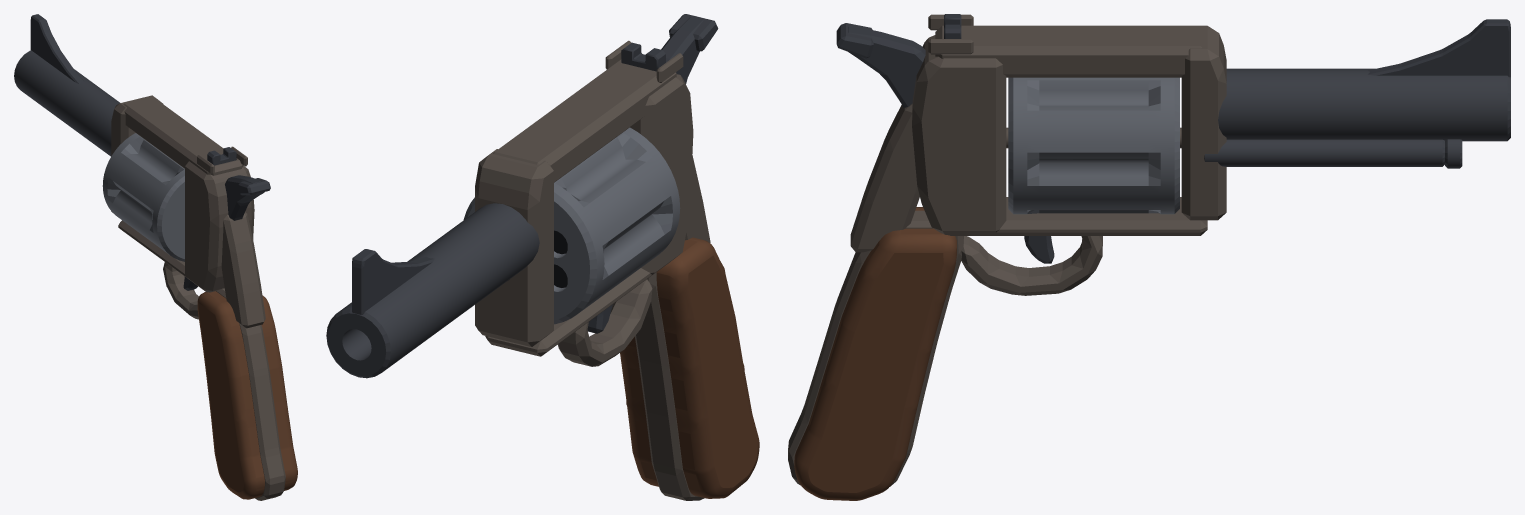
Rendered from w_revolver@revolver_classic.glb.
The picture shows the model from 3 angles, left to right: view 1: azimuth 30°, elevation 25°; view 2: azimuth 150°, elevation 25°; view 3: azimuth 270°, elevation 25°; orthographic projection. The views are drawn at different scales.
Parts seen in each view (by area): view 1: body_wzA, grip_wzA, grip_wzB, cylinder_wzB, body_wzB, sight_wzN, hammer_wzN; view 2: body_wzA, grip_wzA, cylinder_wzB, body_wzB, grip_wzB, sight_wzN, hammer_wzN, cylinder_wzN; view 3: body_wzA, body_wzB, grip_wzA, cylinder_wzB, grip_wzB, sight_wzN, hammer_wzN.
Part boxes in pixels (<box>): body_wzA: <box>111,95,254,319</box>; grip_wzA: <box>197,291,297,499</box>; grip_wzB: <box>216,212,285,500</box>; cylinder_wzB: <box>102,133,184,261</box>; body_wzB: <box>14,50,119,156</box>; sight_wzN: <box>30,14,236,165</box>; hammer_wzN: <box>225,175,270,220</box>; body_wzA: <box>475,40,693,366</box>; grip_wzA: <box>620,237,759,498</box>; cylinder_wzB: <box>463,127,680,324</box>; body_wzB: <box>326,203,539,378</box>; grip_wzB: <box>635,155,710,500</box>; sight_wzN: <box>352,42,665,314</box>; hammer_wzN: <box>661,14,718,83</box>; cylinder_wzN: <box>554,230,567,287</box>; body_wzA: <box>912,14,1226,295</box>; body_wzB: <box>1204,68,1510,168</box>; grip_wzA: <box>794,207,956,500</box>; cylinder_wzB: <box>1008,77,1179,214</box>; grip_wzB: <box>788,103,963,486</box>; sight_wzN: <box>944,14,1510,77</box>; hammer_wzN: <box>836,23,925,108</box>.
Bounding box in the file's own units: 0.088 × 0.2996 × 0.417.
